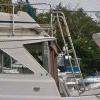Boat: (1, 10, 86, 100)
